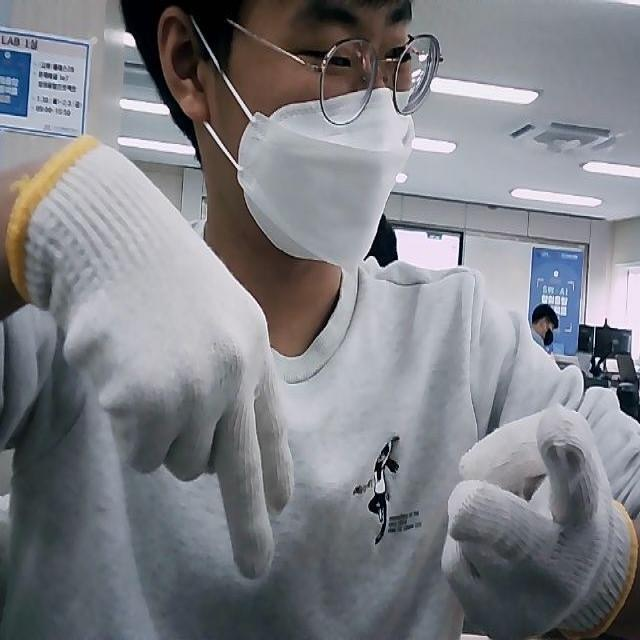Guantes: (6, 134, 294, 580), (441, 405, 638, 638)
